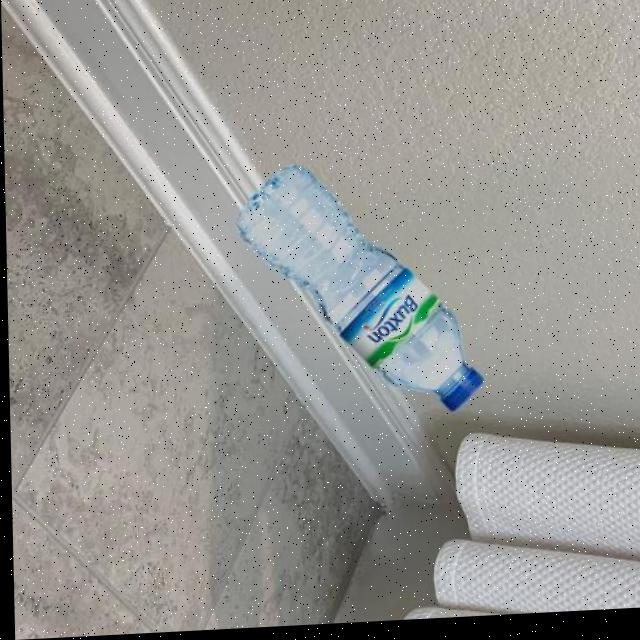bottle: (233, 158, 486, 426)
